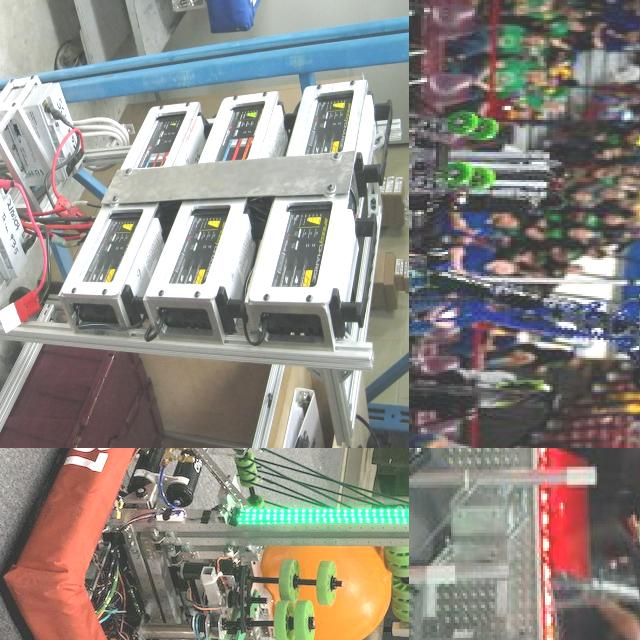FRC-Robots: (3, 448, 409, 640), (409, 204, 640, 448), (409, 448, 608, 640), (409, 39, 530, 226)
